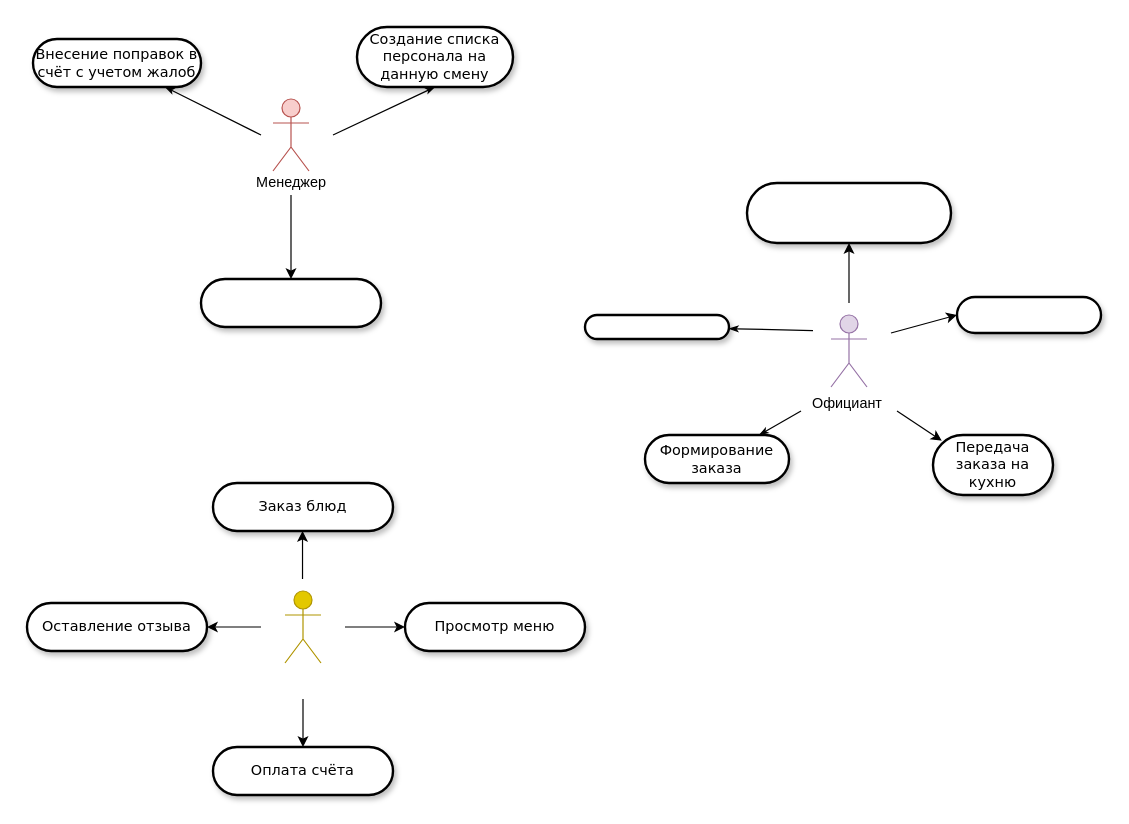
This 1129x824 diagram has some shape labels left out. Here are the shapes that lost their labels. From the top down, the centre of each, then its label:
At point (849, 214): "Обслуживание клиента в порядке электронной очереди".
At point (291, 304): "Подсчет прибыли R-keeper в конце дня".
At point (1029, 316): "Отмена блюд из заказа".
At point (657, 328): "Открытие счёта".
At point (302, 626): "Клиент".
